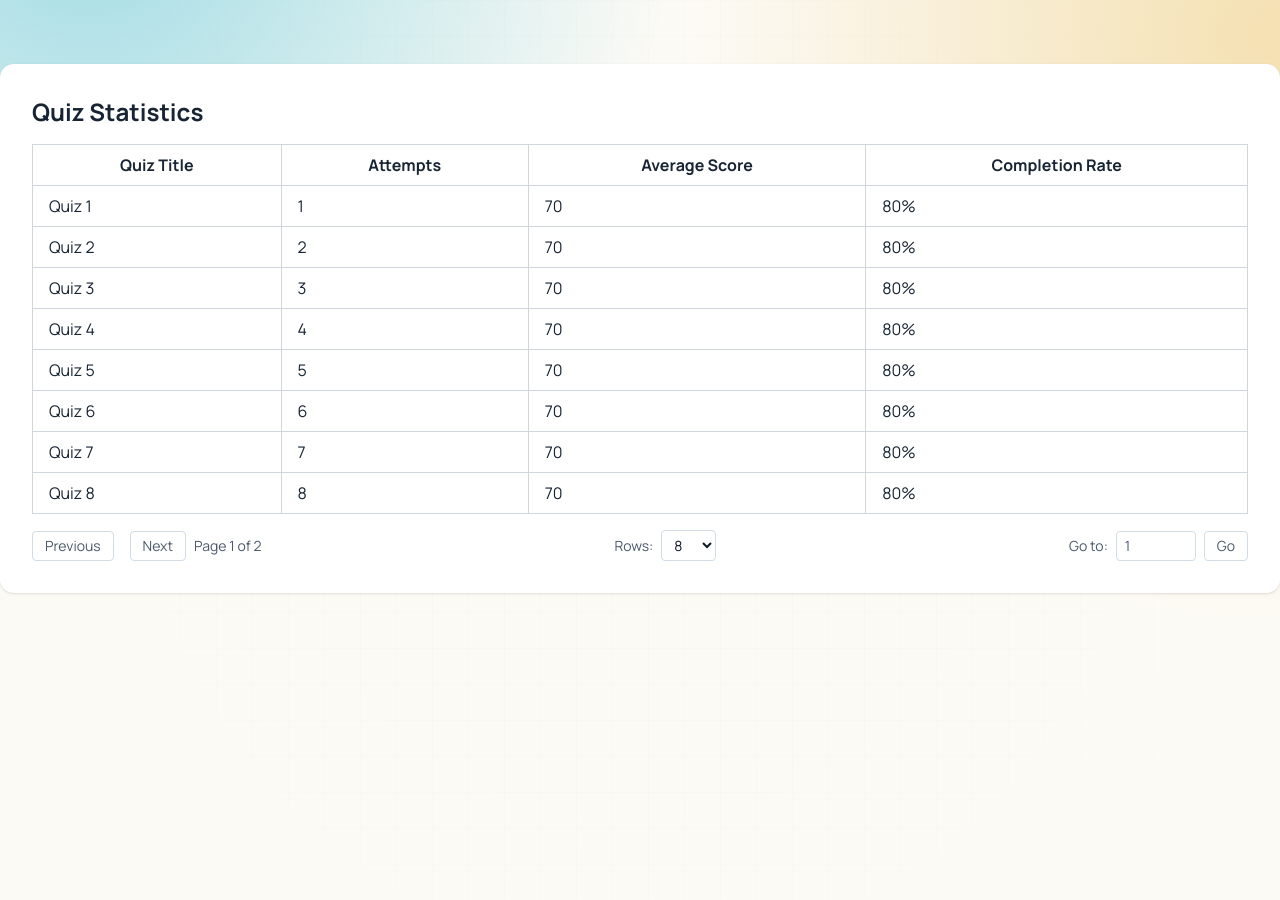
Test: QuizStatistics › paginates statistics when there are many entries
Expected: the text "Quiz 1" is shown, [32,186,281,226]
Expected: the text "Page 1 of 2" is shown, [194,536,262,556]
Click the button "Next" at (158, 546), box [130,530,186,560]
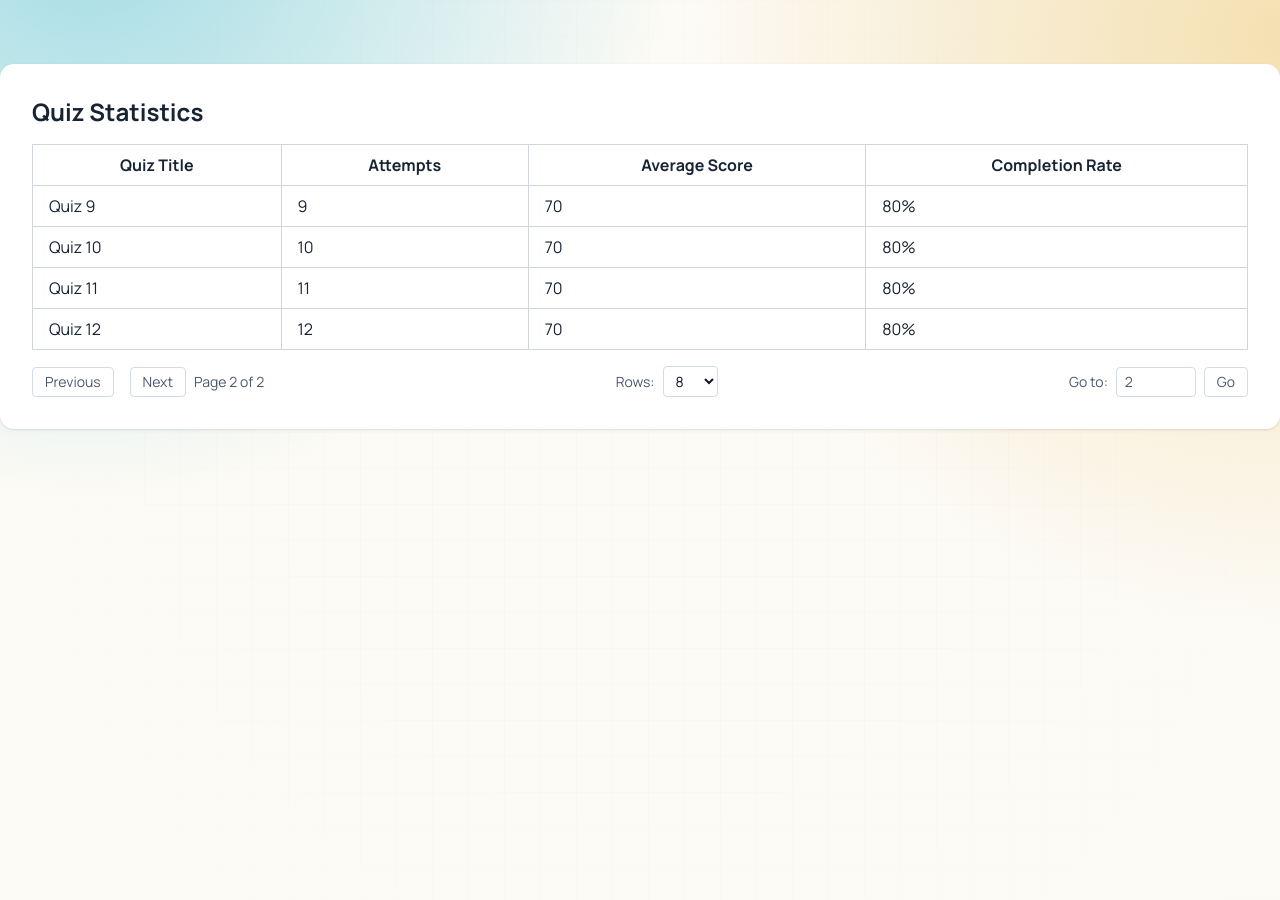
Expected: the text "Page 2 of 2" is shown, [194,372,264,392]
Expected: the text "Quiz 12" is shown, [32,308,281,350]
